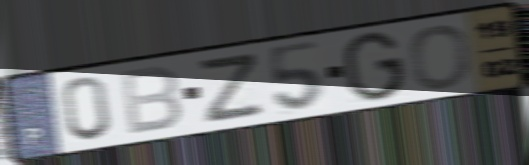0: (60, 75, 114, 143)
5: (264, 37, 328, 114)
B: (117, 63, 185, 138)
G: (341, 30, 408, 104)
O: (408, 23, 473, 91)
Z: (199, 49, 266, 126)
